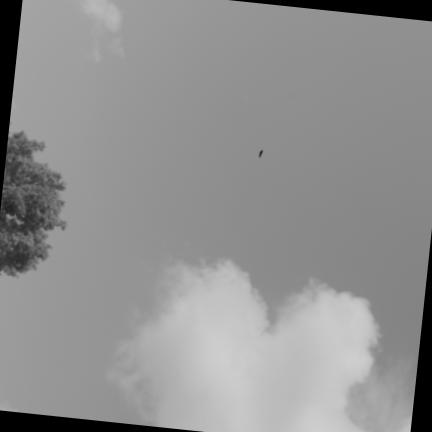Shahed: (259, 150, 262, 157)
